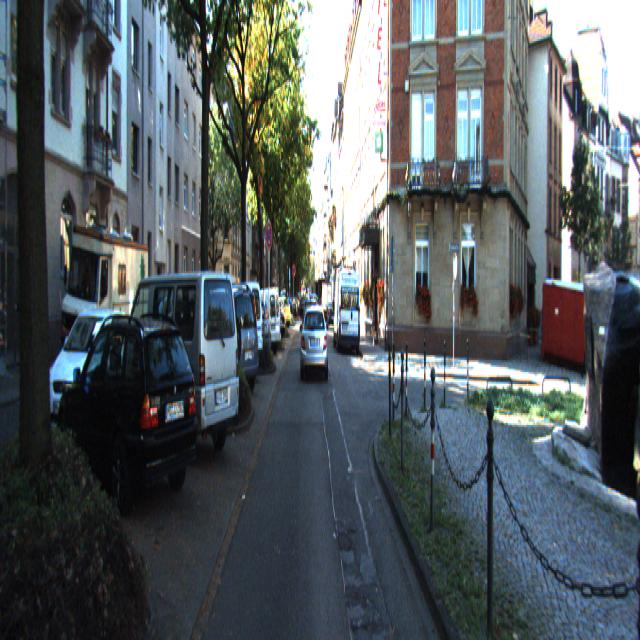Car: (59, 312, 203, 526), (120, 262, 244, 468), (58, 224, 150, 382), (188, 282, 262, 400), (212, 279, 266, 383), (241, 286, 282, 354), (333, 264, 361, 350), (300, 306, 328, 382), (302, 298, 320, 351)
